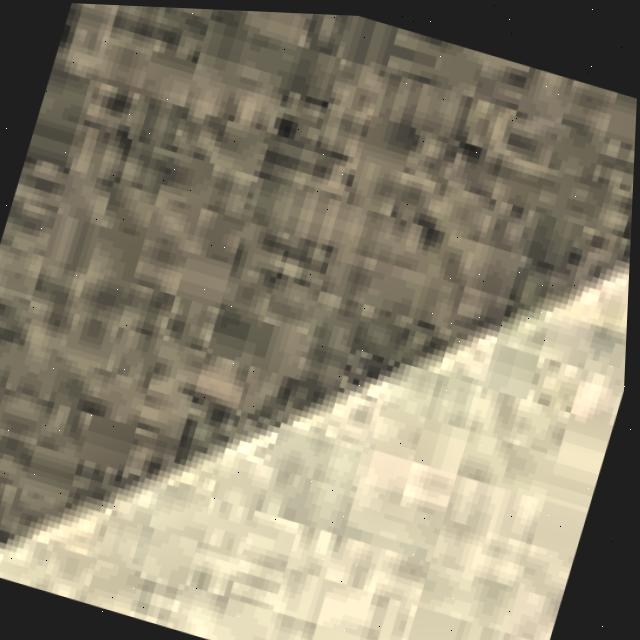paper: (0, 2, 638, 640)
